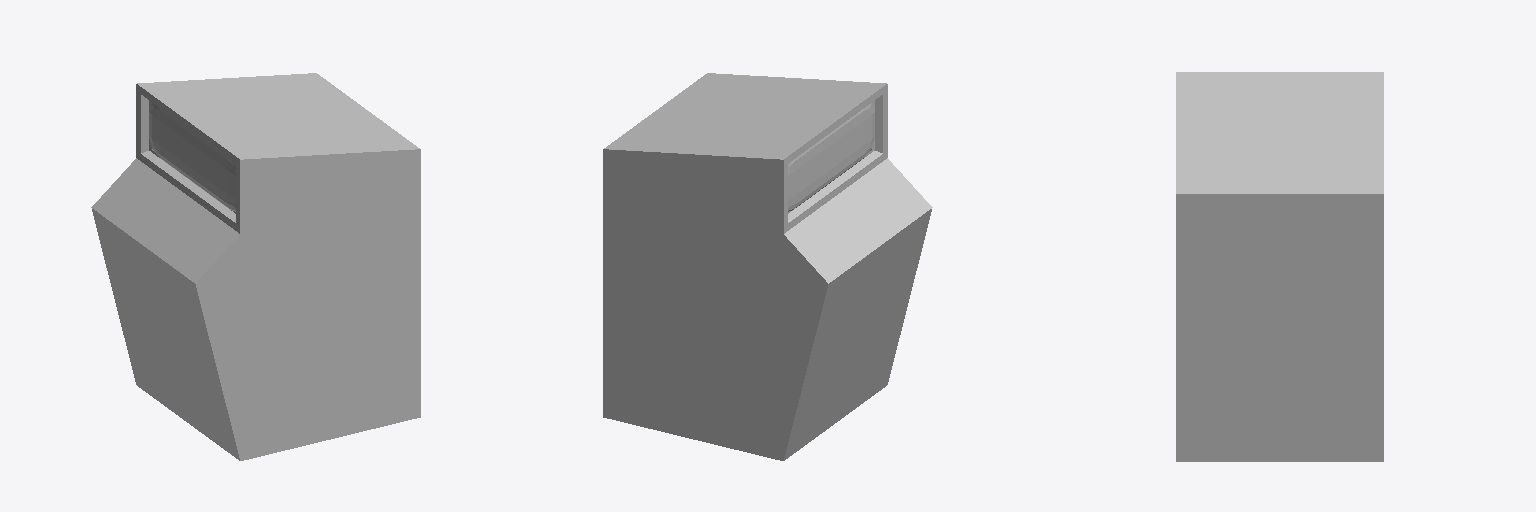
File: monitor.obj
3 views of the same model, side by side, from view 1: azimuth 30°, elevation 25°; view 2: azimuth 150°, elevation 25°; view 3: azimuth 270°, elevation 25° (orthographic).
Visible parts, largest first — view 1: monitor.obj; view 2: monitor.obj; view 3: monitor.obj.
Part boxes in pixels (x1,y1,x2,y2): monitor.obj: (91,73,420,460); monitor.obj: (603,73,932,460); monitor.obj: (1176,72,1383,461).
Bounding box in the file's own units: 1.25 × 1.6 × 1.